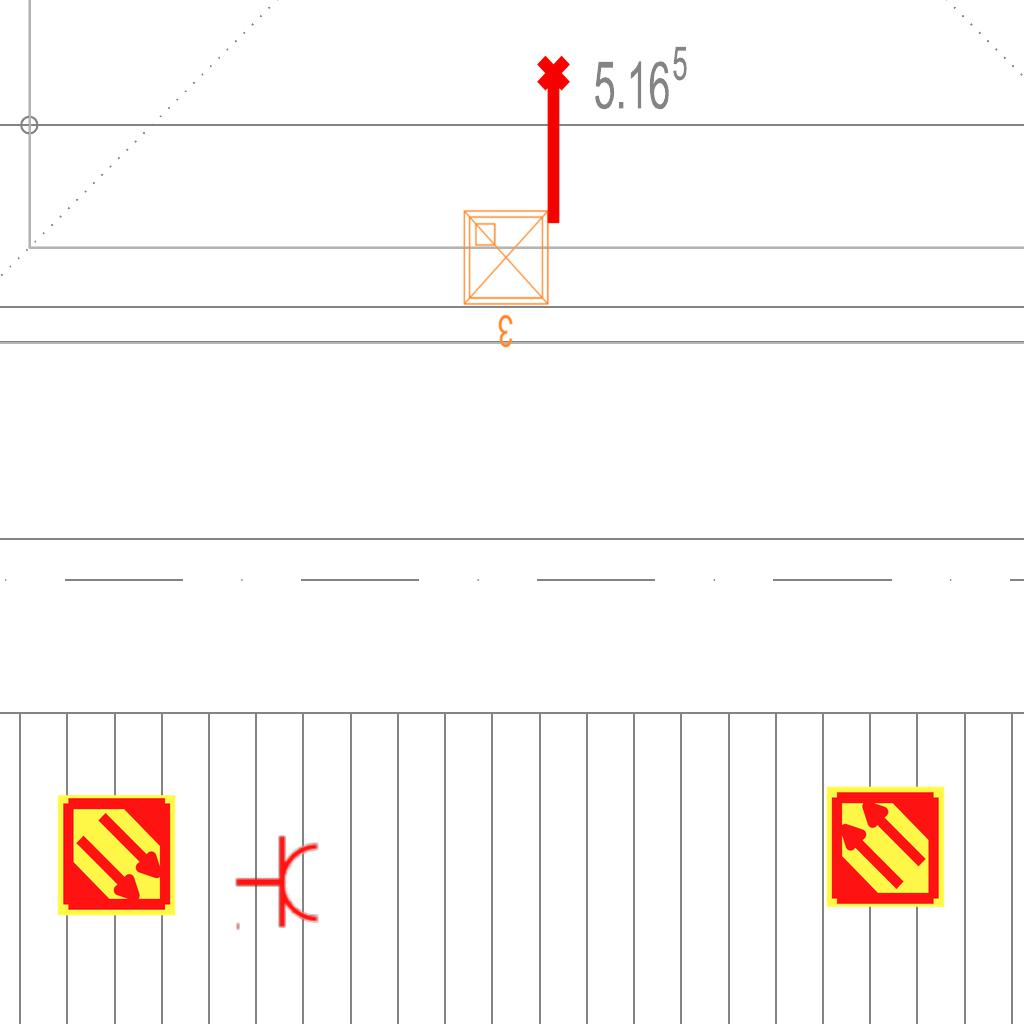ASR_Ansaugoeffnung: (533, 53, 579, 229)
ASR_Ansaugrauchmelder: (823, 784, 948, 909), (54, 793, 179, 918)
Einbaudownlights_LED_Konferenzraeume: (456, 203, 560, 353)
Schukosteckdose_einfach: (234, 834, 321, 934)
